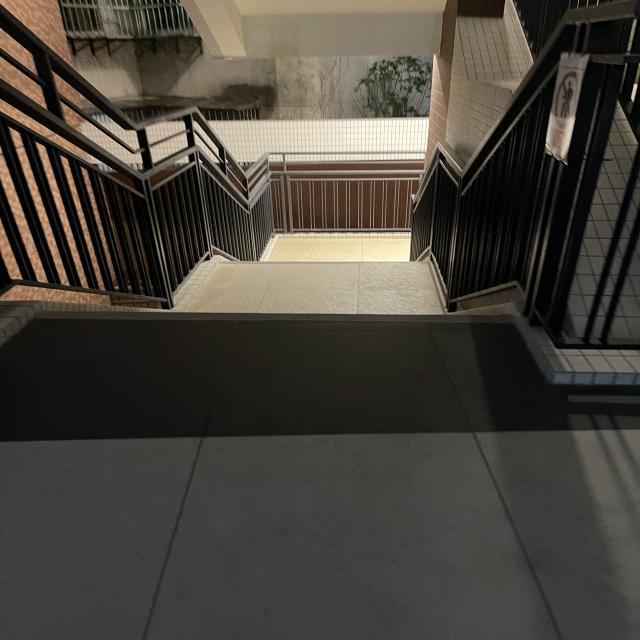Stairs: (32, 234, 535, 361), (229, 205, 435, 283)
